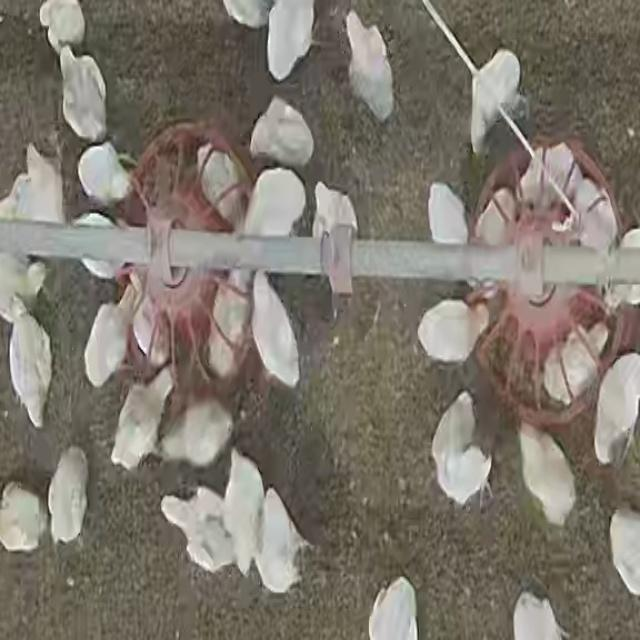chicken: (464, 29, 524, 153), (431, 390, 491, 510), (160, 486, 239, 575), (340, 11, 402, 124), (112, 369, 173, 473), (249, 269, 300, 390), (517, 425, 575, 529), (160, 394, 237, 472), (221, 446, 266, 579), (538, 318, 607, 404), (255, 486, 309, 592), (591, 354, 640, 468), (8, 313, 54, 427), (239, 168, 307, 241), (59, 46, 109, 144), (416, 298, 486, 366), (249, 95, 314, 168), (195, 140, 247, 226), (123, 270, 171, 362), (82, 301, 131, 391), (21, 142, 73, 226), (212, 271, 252, 377), (566, 174, 618, 255), (265, 1, 316, 83), (48, 446, 88, 546), (76, 142, 133, 210), (71, 210, 123, 284), (0, 481, 46, 552), (311, 182, 358, 250), (427, 183, 470, 245)
